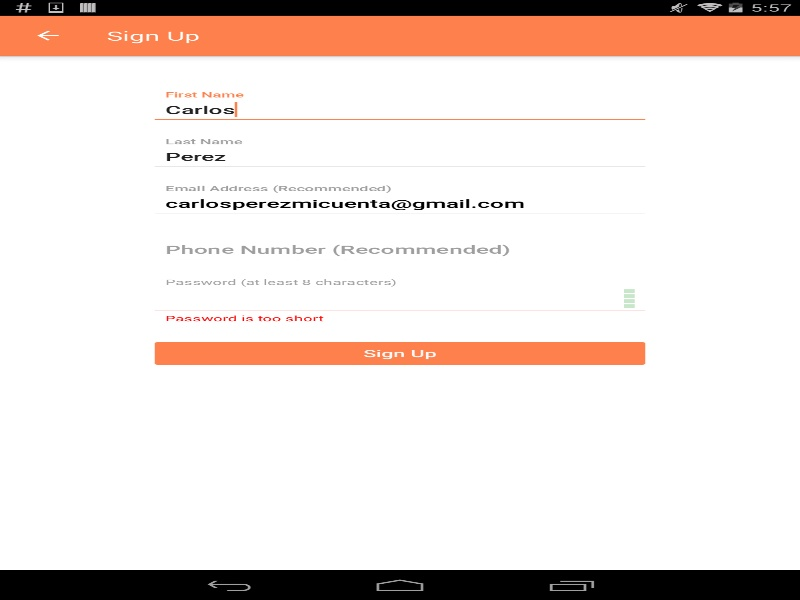Button: (149, 338, 650, 368), (10, 15, 85, 55)
Input: (149, 285, 650, 313), (149, 97, 650, 122), (149, 144, 650, 169), (149, 191, 650, 215), (149, 238, 650, 262)
